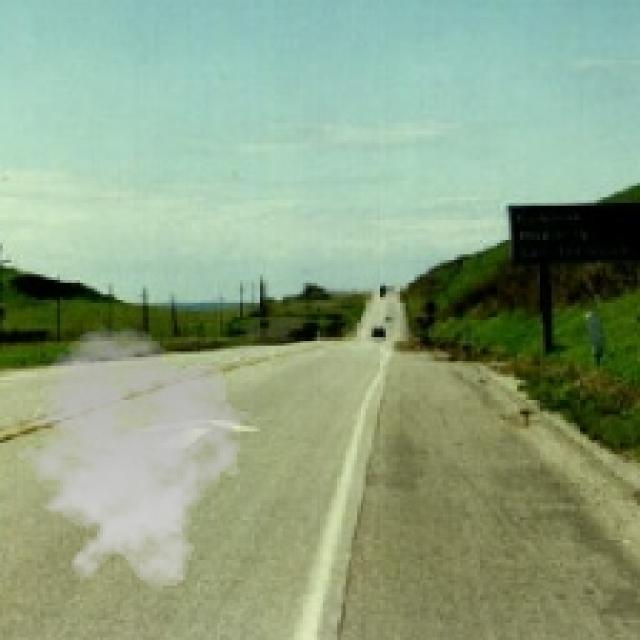smoke: (3, 326, 257, 591)
